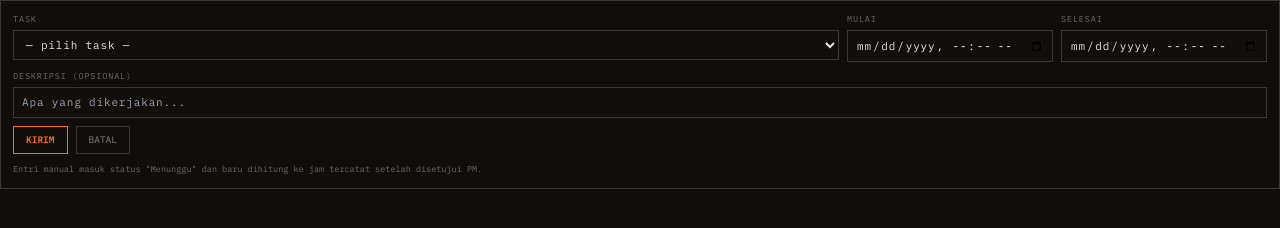
Test case: EntryForm › menolak input tidak valid dan menampilkan galat tanpa mengirim
Click the button "Kirim": (40, 140) [13,126,68,154]
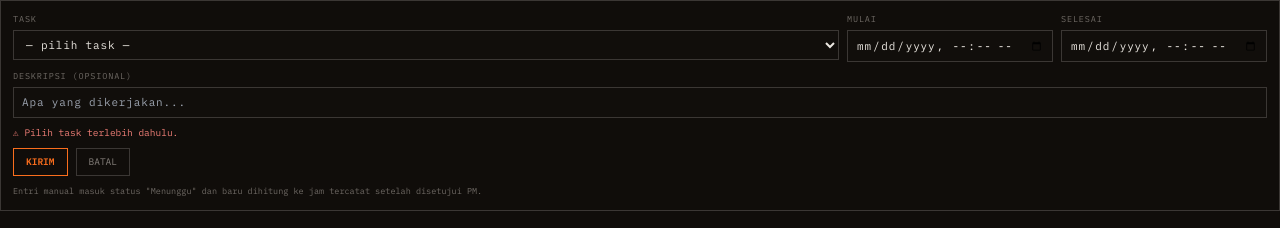
Now the text "⚠ Pilih task terlebih dahulu." is shown, box [13,126,178,138]
